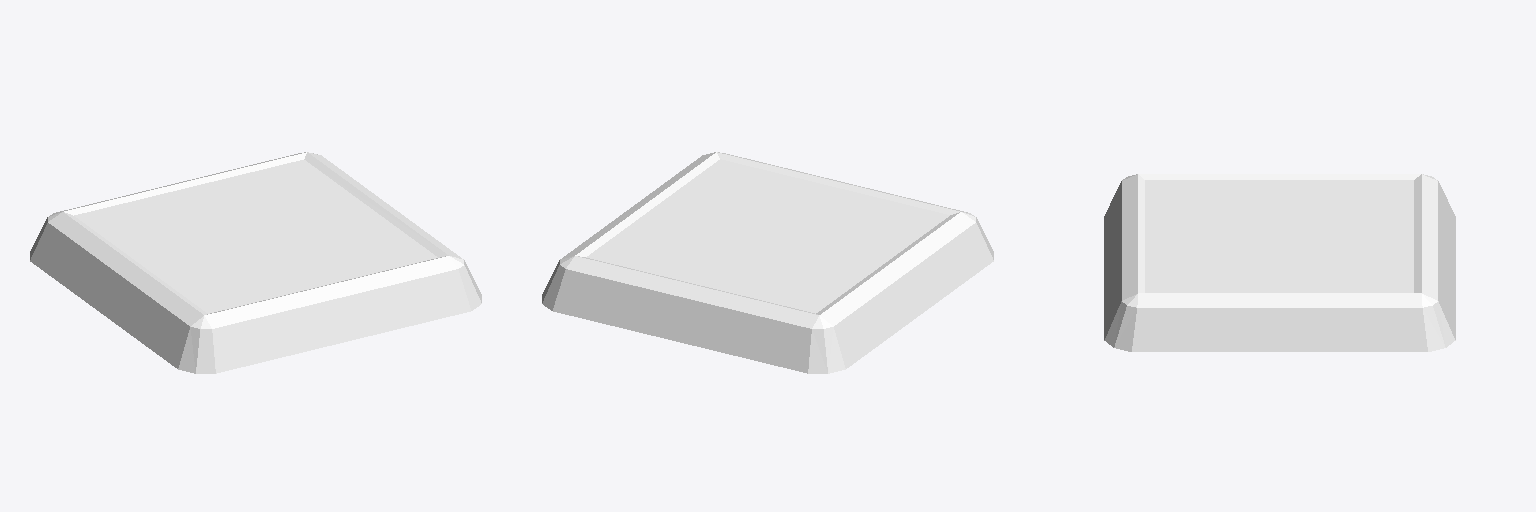
The model's file is cmn_obj_thornpanel_HD.obj.
3 renders of one model, left to right at view 1: azimuth 30°, elevation 25°; view 2: azimuth 150°, elevation 25°; view 3: azimuth 270°, elevation 25°, orthographic.
Parts seen in each view (by area): view 1: cmn_obj_thornpanel_HD_cmn_obj_thornpanel_HD-geometry; view 2: cmn_obj_thornpanel_HD_cmn_obj_thornpanel_HD-geometry; view 3: cmn_obj_thornpanel_HD_cmn_obj_thornpanel_HD-geometry.
Boxes of the visible parts, x1,y1,x2,y2 form: cmn_obj_thornpanel_HD_cmn_obj_thornpanel_HD-geometry: [30, 152, 481, 373]; cmn_obj_thornpanel_HD_cmn_obj_thornpanel_HD-geometry: [542, 152, 993, 373]; cmn_obj_thornpanel_HD_cmn_obj_thornpanel_HD-geometry: [1104, 174, 1455, 351].
Bounding box in the file's own units: 2.1 × 0.294 × 2.1.